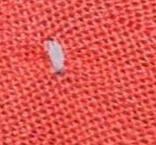hole: (41, 36, 69, 77)
